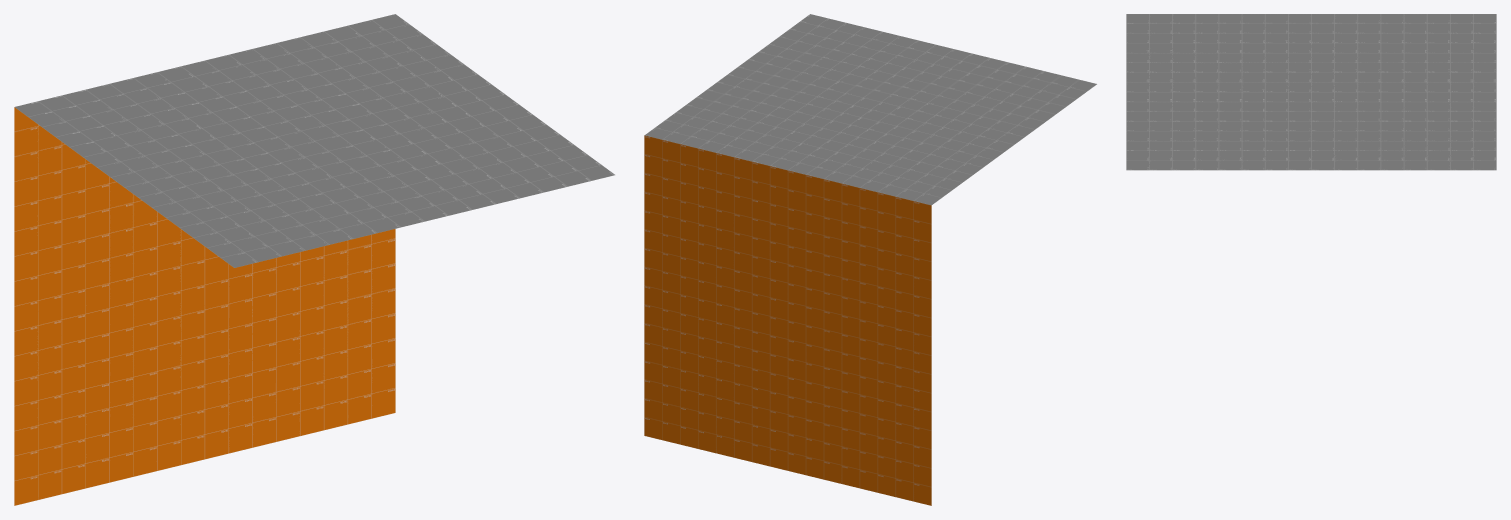
File: floorCutout.dae
The picture shows the model from 3 angles, left to right: view 1: azimuth 30°, elevation 25°; view 2: azimuth 150°, elevation 25°; view 3: azimuth 270°, elevation 25°; orthographic projection. The views are drawn at different scales.
Parts seen in each view (by area): view 1: testbedCutout500, testbedCutout2; view 2: testbedCutout500, testbedCutout2; view 3: testbedCutout2, testbedCutout500.
Part boxes in pixels (x1,y1,x2,y2): testbedCutout500: [14, 14, 614, 505]; testbedCutout2: [14, 14, 614, 505]; testbedCutout500: [644, 14, 1096, 505]; testbedCutout2: [644, 14, 1095, 504]; testbedCutout2: [1126, 14, 1496, 170]; testbedCutout500: [1126, 14, 1496, 170].
Bounding box in the file's own units: 16 × 16 × 16.
